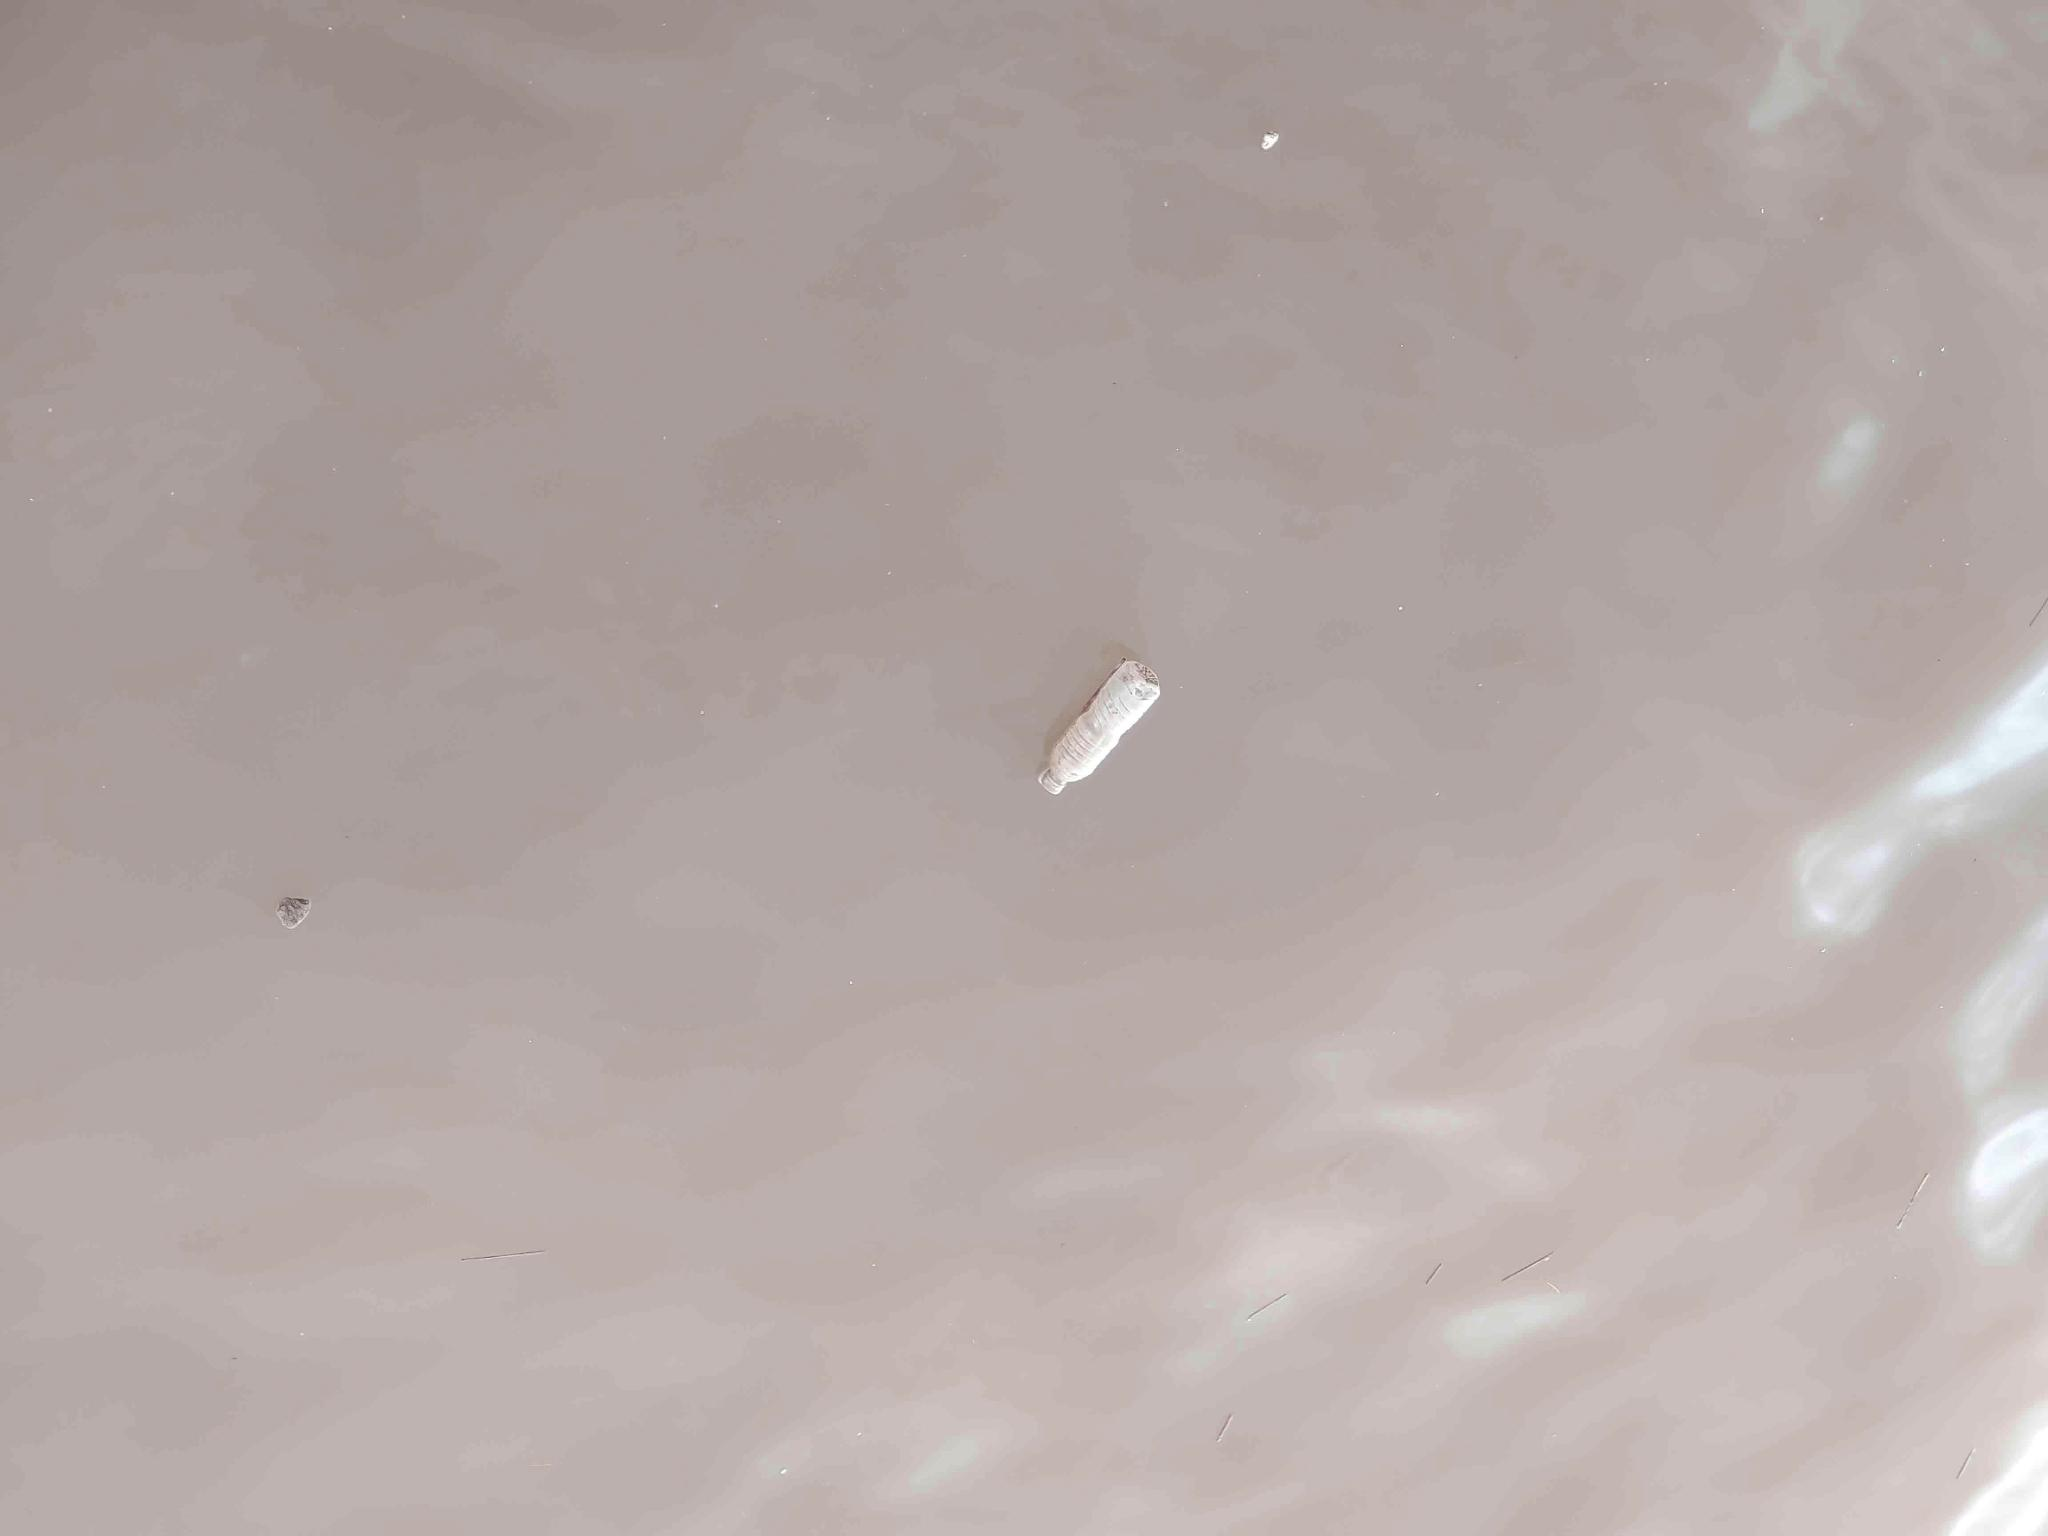Plastic: (1032, 658, 1164, 799)
